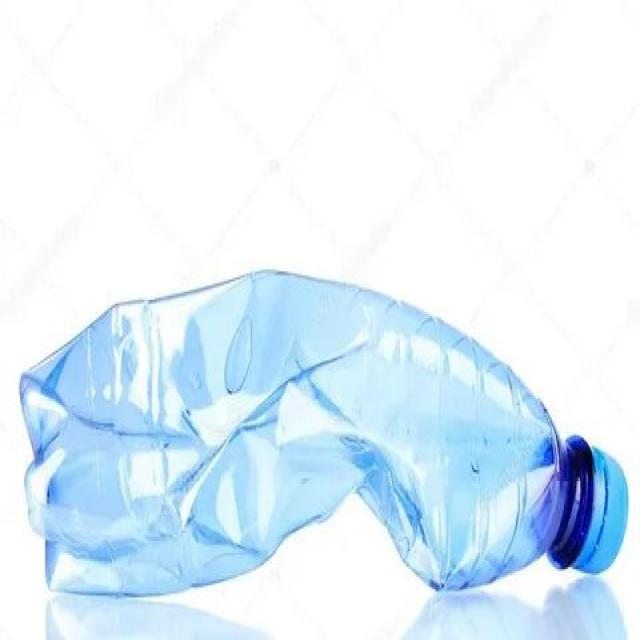blue: (19, 266, 578, 600)
